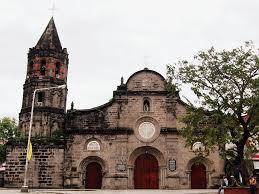barasoain_church_malolos_bulacan: (3, 15, 227, 190)
